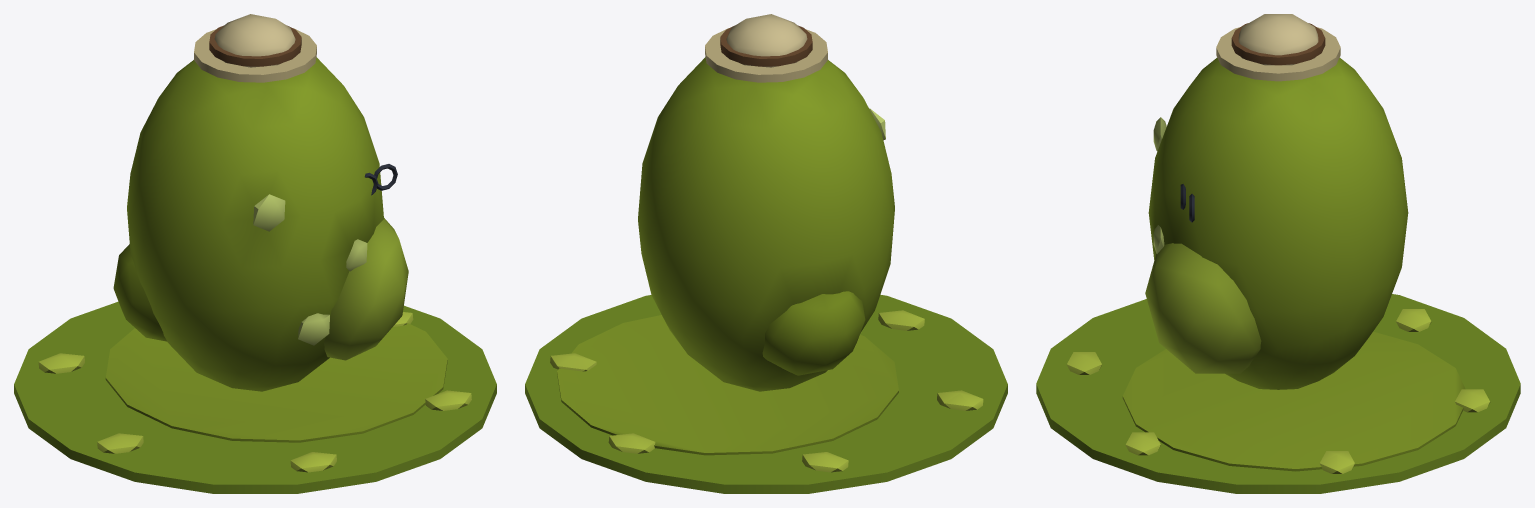
The model's file is st_cocoon.glb.
The picture shows the model from 3 angles, left to right: view 1: azimuth 30°, elevation 25°; view 2: azimuth 150°, elevation 25°; view 3: azimuth 270°, elevation 25°; orthographic projection.
Parts seen in each view (by area): view 1: pulse_cocoon, body; view 2: pulse_cocoon, body; view 3: pulse_cocoon, body.
Part boxes in pixels (left/top/right/bottom): pulse_cocoon: left=113, top=14, right=408, bottom=391; body: left=14, top=301, right=496, bottom=493; pulse_cocoon: left=638, top=14, right=894, bottom=391; body: left=525, top=294, right=1007, bottom=493; pulse_cocoon: left=1145, top=14, right=1408, bottom=389; body: left=1036, top=294, right=1520, bottom=493.
Size of the model in its own units: 2.76 by 2.39 by 2.8.
